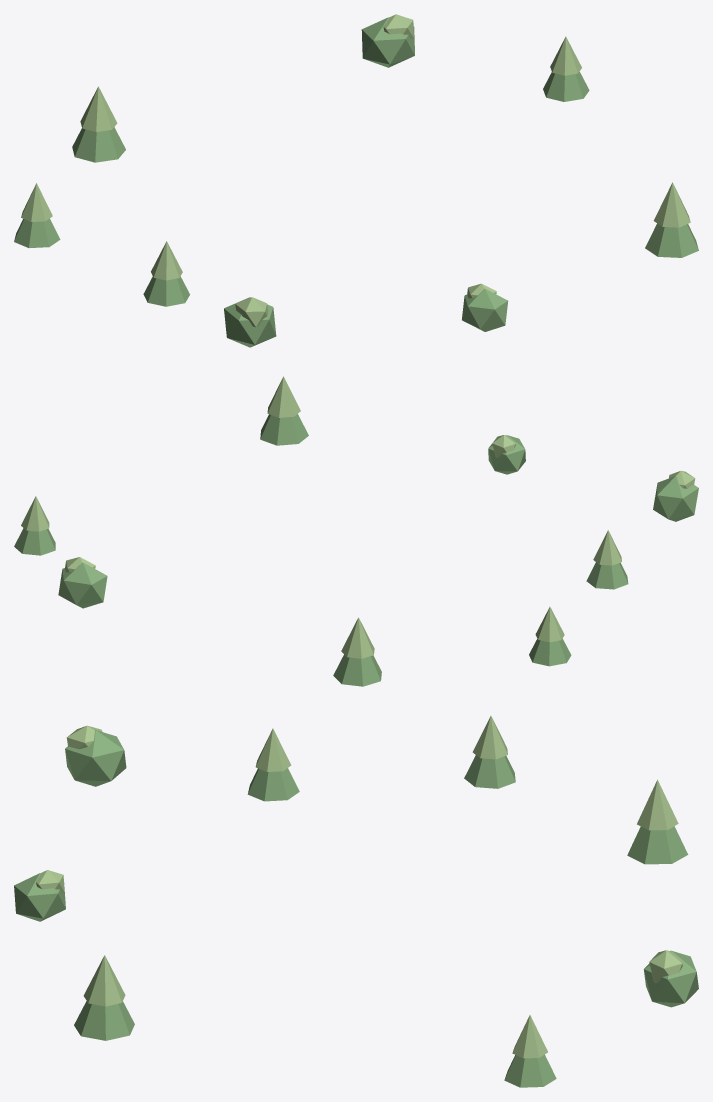
Rendered from entry_woodland_refuge_wind_canopies.fbx.
3 renders of one model, top to bottom at view 1: azimuth 30°, elevation 25°; view 2: azimuth 150°, elevation 25°; view 3: azimuth 270°, elevation 25°, orthographic. The views are drawn at different scales.
Visible parts, largest first — view 1: chunk_entry_woodland_refuge__tree_canopy_11, chunk_entry_woodland_refuge__tree_canopy_10, chunk_entry_woodland_refuge__tree_canopy_06, chunk_entry_woodland_refuge__tree_canopy_07, chunk_entry_woodland_refuge__tree_canopy_14, chunk_entry_woodland_refuge__tree_canopy_03, chunk_entry_woodland_refuge__tree_canopy_15, chunk_entry_woodland_refuge__tree_canopy_01, chunk_entry_woodland_refuge__tree_canopy_08, chunk_entry_woodland_refuge__tree_canopy_13, chunk_entry_woodland_refuge__tree_canopy_04, chunk_entry_woodland_refuge__tree_canopy_16 (+3 smaller); view 2: chunk_entry_woodland_refuge__tree_canopy_11, chunk_entry_woodland_refuge__tree_canopy_06, chunk_entry_woodland_refuge__tree_canopy_07, chunk_entry_woodland_refuge__tree_canopy_14, chunk_entry_woodland_refuge__tree_canopy_01, chunk_entry_woodland_refuge__tree_canopy_15, chunk_entry_woodland_refuge__tree_canopy_03, chunk_entry_woodland_refuge__tree_canopy_10, chunk_entry_woodland_refuge__tree_canopy_08, chunk_entry_woodland_refuge__tree_canopy_13, chunk_entry_woodland_refuge__tree_canopy_02, chunk_entry_woodland_refuge__tree_canopy_16 (+1 smaller); view 3: chunk_entry_woodland_refuge__tree_canopy_06, chunk_entry_woodland_refuge__tree_canopy_14, chunk_entry_woodland_refuge__tree_canopy_11, chunk_entry_woodland_refuge__tree_canopy_07, chunk_entry_woodland_refuge__tree_canopy_10, chunk_entry_woodland_refuge__tree_canopy_01, chunk_entry_woodland_refuge__tree_canopy_03, chunk_entry_woodland_refuge__tree_canopy_15, chunk_entry_woodland_refuge__tree_canopy_13, chunk_entry_woodland_refuge__tree_canopy_08, chunk_entry_woodland_refuge__tree_canopy_04, chunk_entry_woodland_refuge__tree_canopy_02 (+2 smaller).
Part boxes in pixels (<box>): chunk_entry_woodland_refuge__tree_canopy_11: <box>361,17,414,67</box>; chunk_entry_woodland_refuge__tree_canopy_10: <box>462,289,508,331</box>; chunk_entry_woodland_refuge__tree_canopy_06: <box>224,297,276,347</box>; chunk_entry_woodland_refuge__tree_canopy_07: <box>72,127,125,162</box>; chunk_entry_woodland_refuge__tree_canopy_14: <box>645,223,698,257</box>; chunk_entry_woodland_refuge__tree_canopy_03: <box>143,276,189,306</box>; chunk_entry_woodland_refuge__tree_canopy_15: <box>543,71,589,101</box>; chunk_entry_woodland_refuge__tree_canopy_01: <box>14,218,60,248</box>; chunk_entry_woodland_refuge__tree_canopy_08: <box>80,86,117,131</box>; chunk_entry_woodland_refuge__tree_canopy_13: <box>653,182,690,227</box>; chunk_entry_woodland_refuge__tree_canopy_04: <box>151,241,182,280</box>; chunk_entry_woodland_refuge__tree_canopy_16: <box>550,36,581,75</box>; chunk_entry_woodland_refuge__tree_canopy_11: <box>58,562,107,608</box>; chunk_entry_woodland_refuge__tree_canopy_06: <box>653,476,698,521</box>; chunk_entry_woodland_refuge__tree_canopy_07: <box>333,654,381,686</box>; chunk_entry_woodland_refuge__tree_canopy_14: <box>260,414,308,445</box>; chunk_entry_woodland_refuge__tree_canopy_01: <box>529,638,571,666</box>; chunk_entry_woodland_refuge__tree_canopy_15: <box>14,528,55,555</box>; chunk_entry_woodland_refuge__tree_canopy_03: <box>586,562,628,589</box>; chunk_entry_woodland_refuge__tree_canopy_10: <box>488,435,525,474</box>; chunk_entry_woodland_refuge__tree_canopy_08: <box>341,617,374,658</box>; chunk_entry_woodland_refuge__tree_canopy_13: <box>267,376,300,417</box>; chunk_entry_woodland_refuge__tree_canopy_02: <box>535,607,564,642</box>; chunk_entry_woodland_refuge__tree_canopy_16: <box>21,496,49,531</box>; chunk_entry_woodland_refuge__tree_canopy_06: <box>65,730,126,786</box>; chunk_entry_woodland_refuge__tree_canopy_14: <box>74,1001,134,1040</box>; chunk_entry_woodland_refuge__tree_canopy_11: <box>643,950,698,1007</box>; chunk_entry_woodland_refuge__tree_canopy_07: <box>627,826,688,864</box>; chunk_entry_woodland_refuge__tree_canopy_10: <box>14,873,65,921</box>; chunk_entry_woodland_refuge__tree_canopy_01: <box>464,755,515,788</box>; chunk_entry_woodland_refuge__tree_canopy_03: <box>247,768,299,801</box>; chunk_entry_woodland_refuge__tree_canopy_15: <box>504,1054,556,1087</box>; chunk_entry_woodland_refuge__tree_canopy_13: <box>83,955,125,1006</box>; chunk_entry_woodland_refuge__tree_canopy_08: <box>637,779,678,830</box>; chunk_entry_woodland_refuge__tree_canopy_04: <box>255,728,291,771</box>; chunk_entry_woodland_refuge__tree_canopy_02: <box>472,716,507,759</box>.
Bounding box in the file's own units: 194 × 24.12 × 175.
